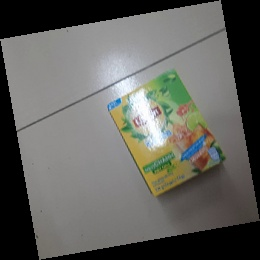LipTon: (105, 69, 227, 198)
